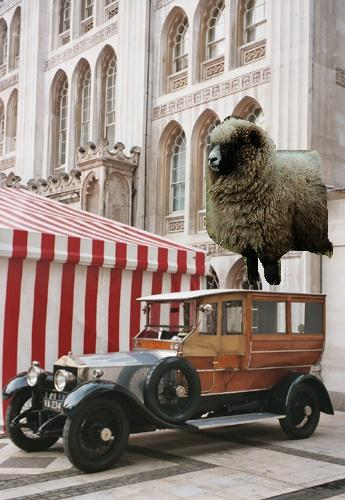tampered: (207, 116, 333, 285)
